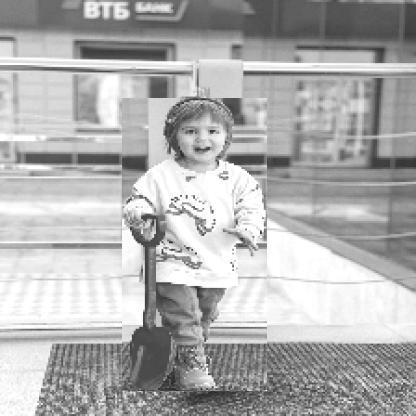child: (123, 99, 269, 393)
